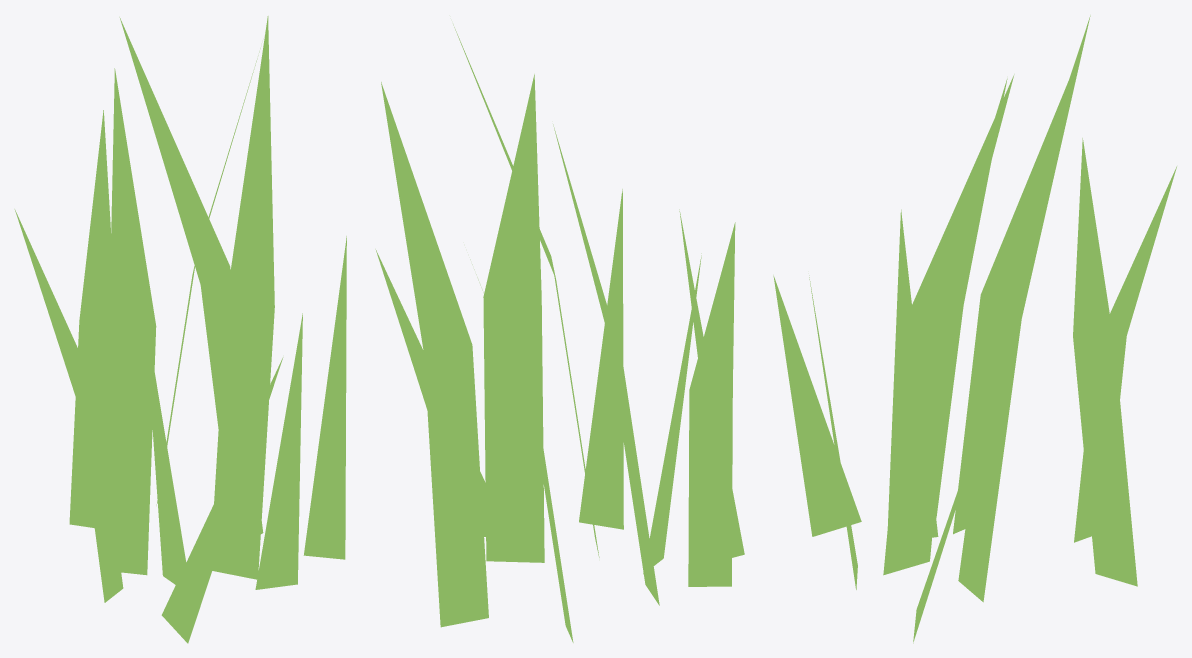
The model's file is Grass_b_OneS_04.fbx.
3 renders of one model, left to right at view 1: azimuth 30°, elevation 25°; view 2: azimuth 150°, elevation 25°; view 3: azimuth 270°, elevation 25°, orthographic. The views are drawn at different scales.
Visible parts, largest first — view 1: Grass_b_OneS_04; view 2: Grass_b_OneS_04; view 3: Grass_b_OneS_04.
Part boxes in pixels (left/top/right/bottom): Grass_b_OneS_04: left=14, top=16, right=346, bottom=643; Grass_b_OneS_04: left=375, top=24, right=744, bottom=642; Grass_b_OneS_04: left=773, top=15, right=1176, bottom=643.
Bounding box in the file's own units: 0.3187 × 0.4782 × 0.3157.
